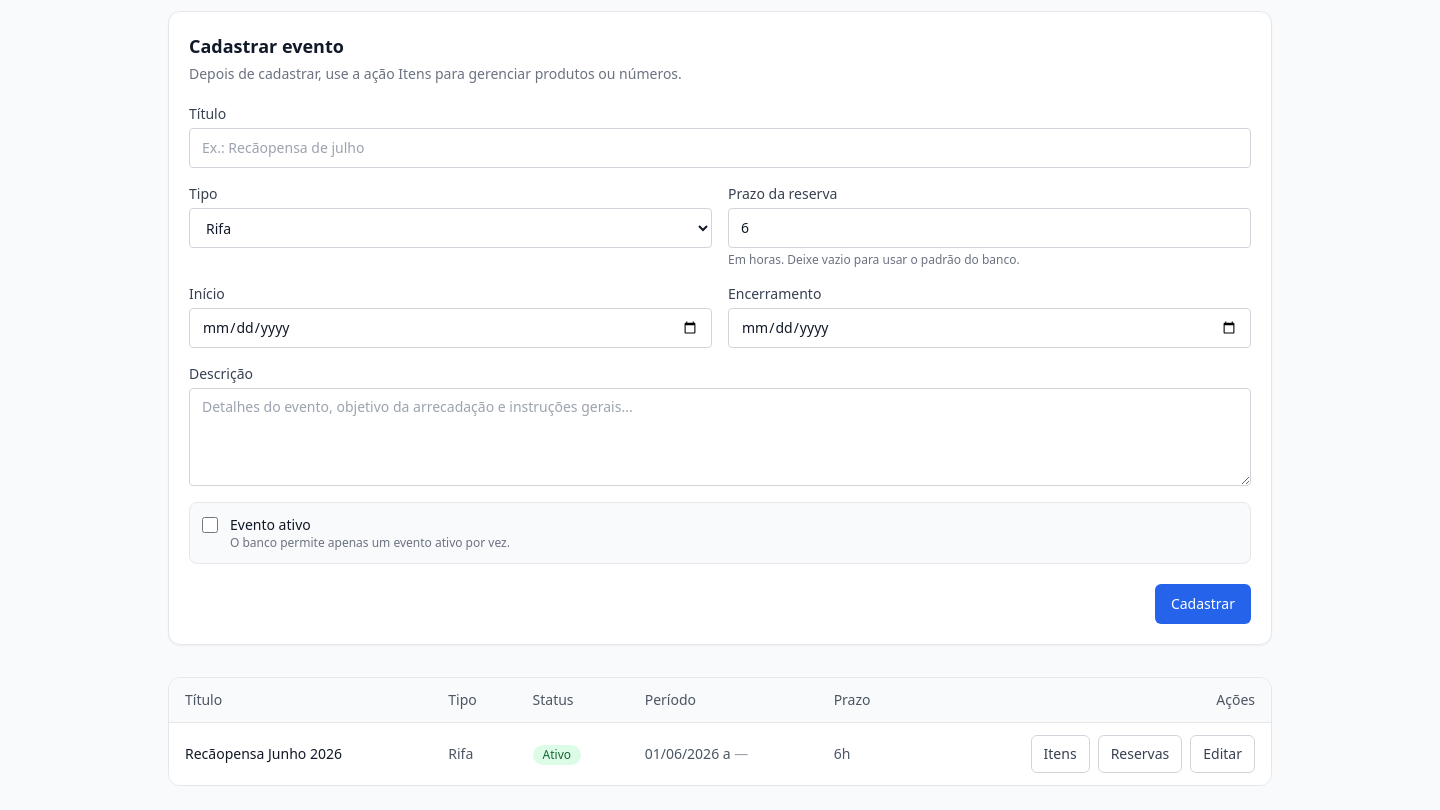
Test case: AdminEventsPage › edita evento preservando regras existentes
The width and height of the screenshot is (1440, 810).
(page scrolled)
Click the button "Editar" at (1223, 754), box [1190, 735, 1255, 773]
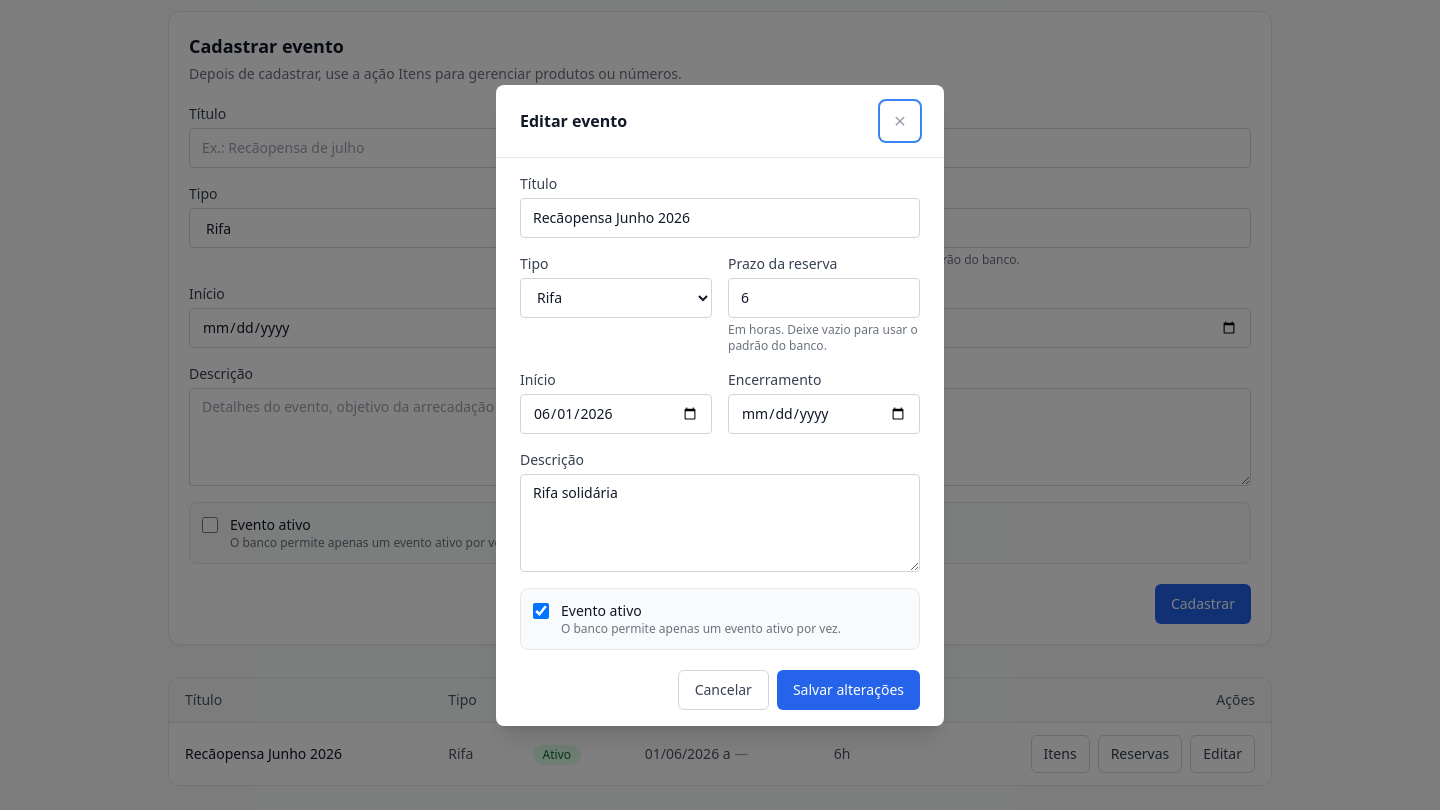
Replace the text in the field labelled "Título" with "Recãopensa Julho 2026" at (720, 218), box [520, 198, 920, 238]
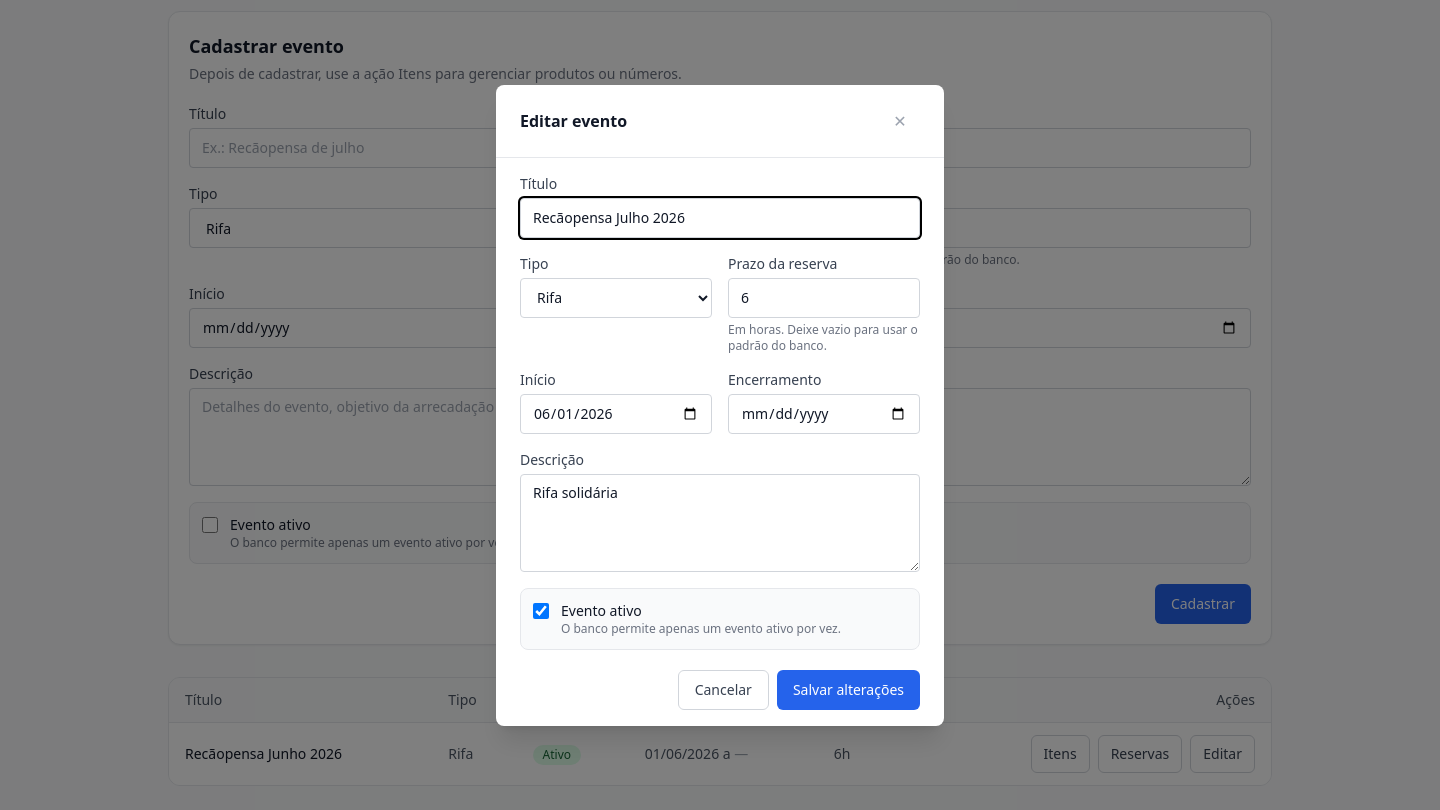
Type "10" into the number field labelled "Prazo da reserva" at (824, 298), box [728, 278, 920, 318]
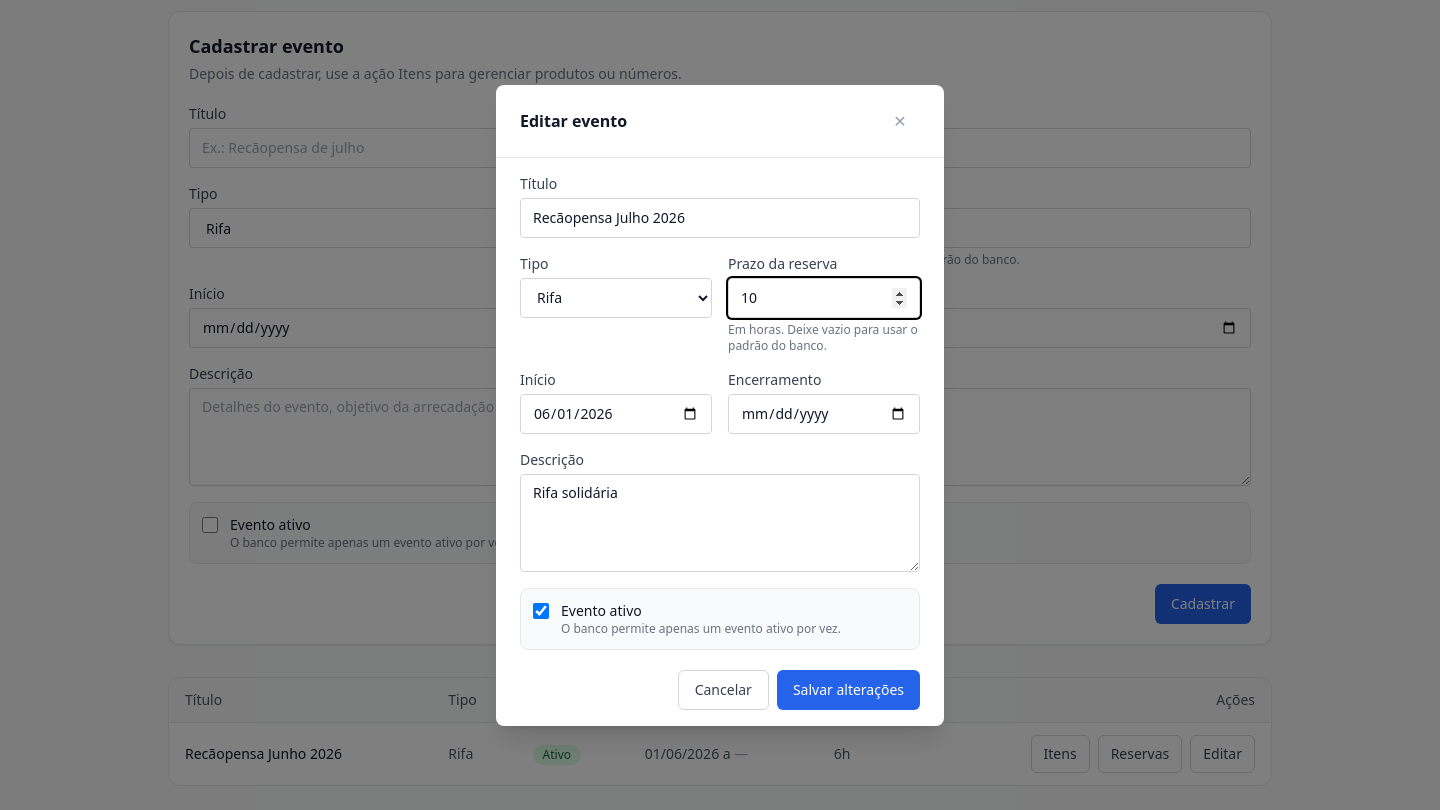
Click the button "Salvar alterações" at (848, 690), box [777, 670, 920, 710]
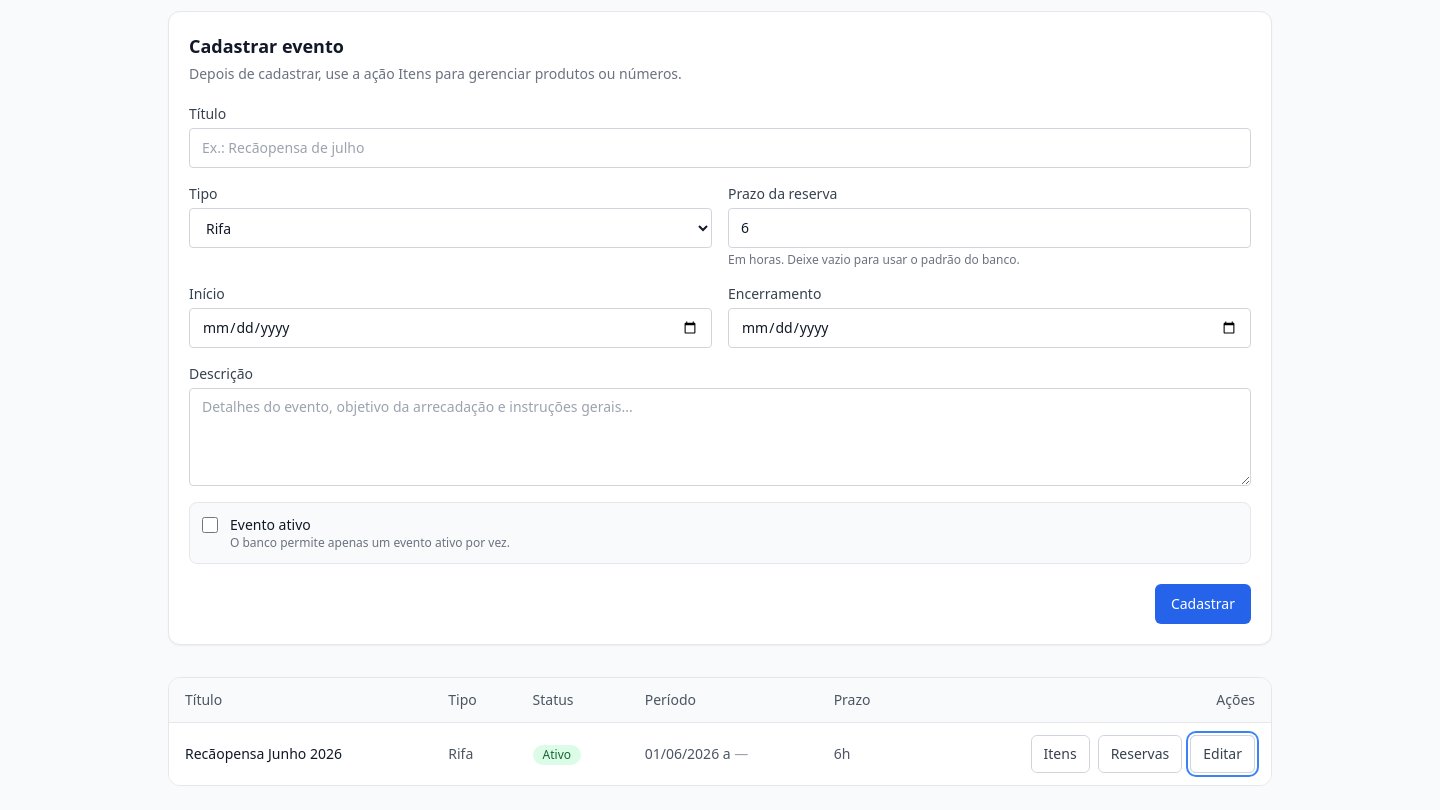
Result: the heading "Editar evento" is gone
